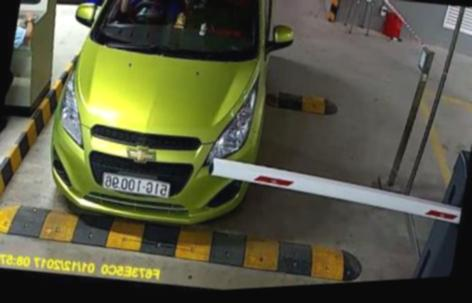License_Plate: (97, 167, 180, 207)
